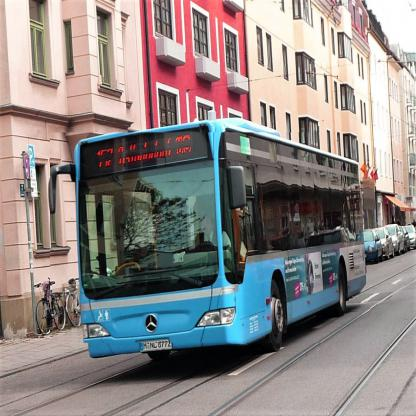bus: (51, 134, 371, 345)
